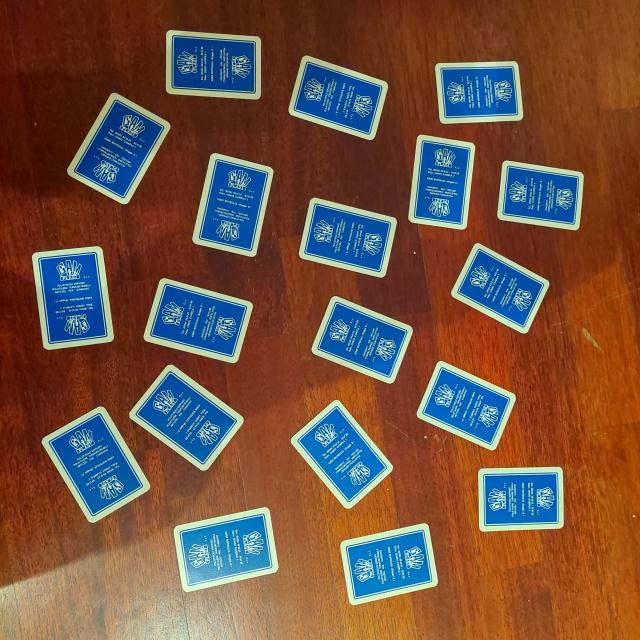card: (128, 364, 245, 477), (40, 406, 152, 524), (64, 92, 170, 206), (290, 402, 396, 515), (283, 55, 389, 149), (170, 505, 282, 592), (310, 297, 411, 392), (143, 280, 252, 365), (31, 247, 118, 353), (450, 244, 546, 337), (416, 366, 514, 452), (190, 154, 270, 258), (340, 526, 440, 606), (298, 198, 394, 278), (160, 26, 263, 100), (498, 158, 584, 235), (474, 464, 566, 533), (406, 136, 469, 230), (434, 58, 523, 124)
